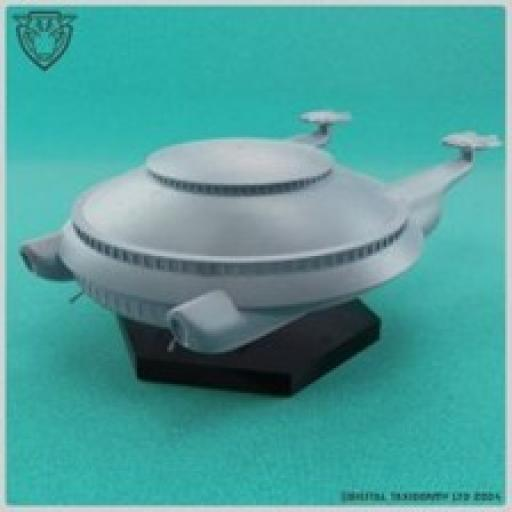dalek: (21, 108, 502, 360)
